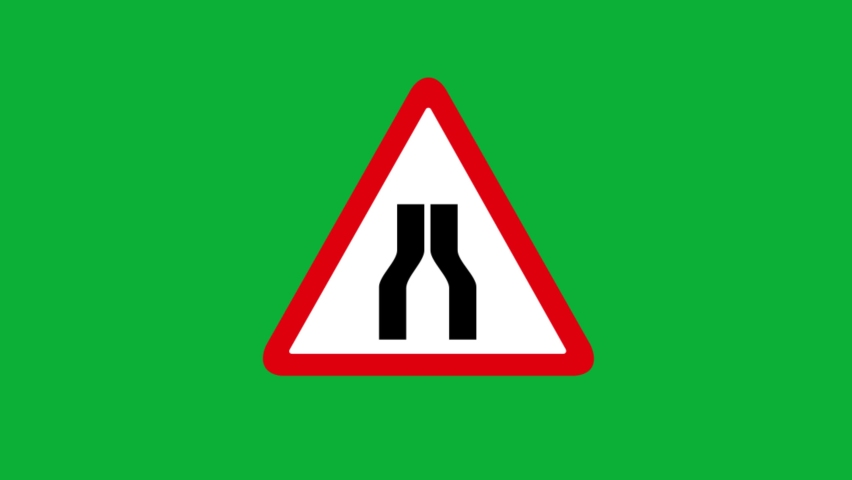narrow-road: (368, 181, 493, 357)
